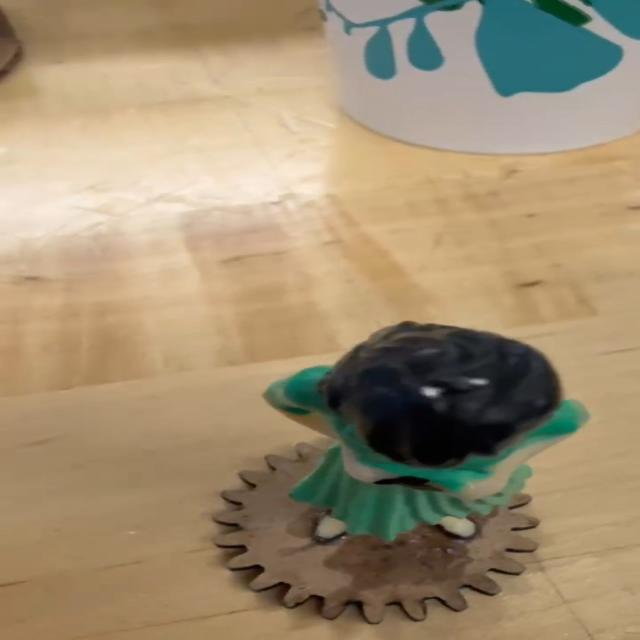Authorized: (181, 309, 640, 640)
